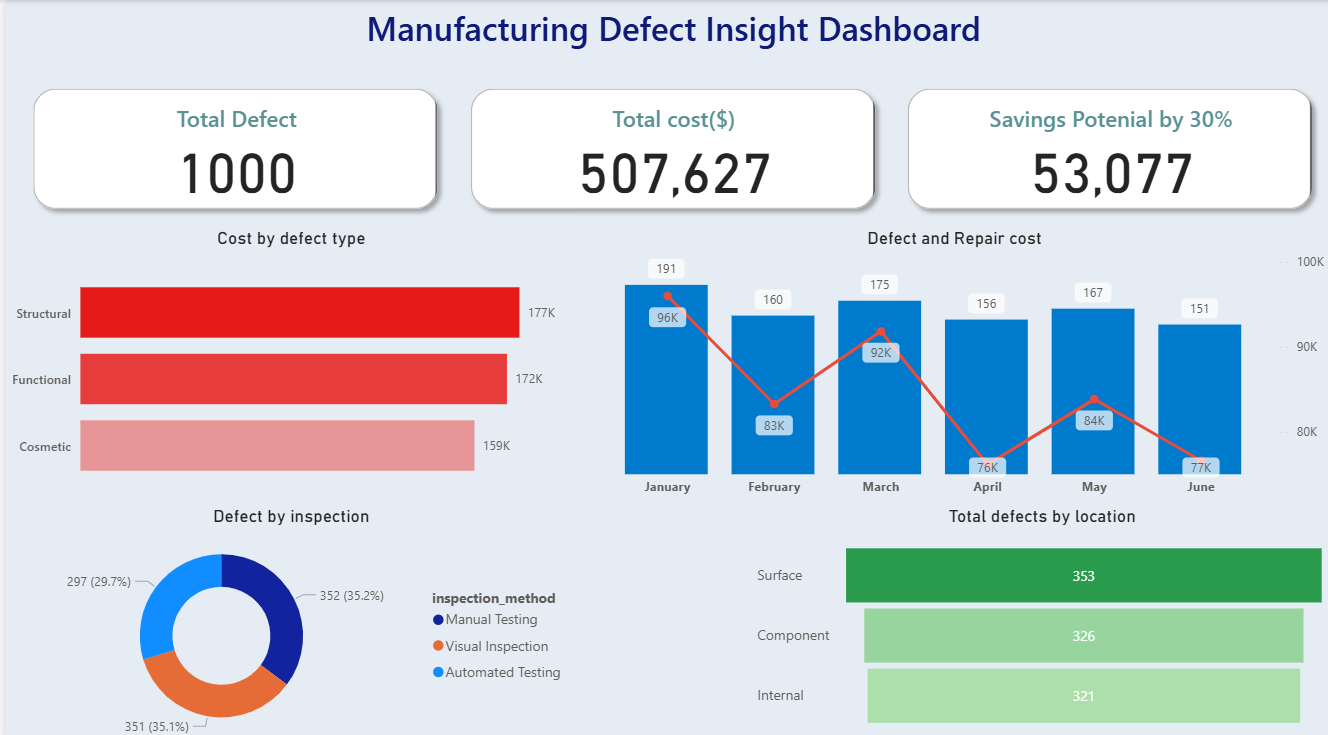

What the dashboard file says about the page in this screenshot:
{"tool":"powerbi","page":{"name":"Page 2","canvas":[1280,720],"ordinal":0},"visuals":[{"type":"textbox","box":[10.1,0,1269.6,69.3],"z":0},{"type":"cardVisual","fields":{"Data":["defects_data.Total Defect","defects_data.Total cost","defects_data.Estimated Savings"]},"box":[10.1,69.3,1269.6,150],"z":1000},{"type":"lineStackedColumnComboChart","title":"Defect and Repair cost","fields":{"Category":["defects_data.Month Name"],"Y":["defects_data.Total Defect"],"Y2":["defects_data.Total cost"]},"box":[551.1,219.3,728.6,268.4],"z":2000},{"type":"barChart","title":"Cost  by defect type","fields":{"Y":["defects_data.Total cost"],"Category":["defects_data.defect_type"]},"box":[0,219.3,551.1,268.4],"z":3000},{"type":"donutChart","title":"Defect by inspection","fields":{"Category":["defects_data.inspection_method"],"Y":["defects_data.Total Defect"]},"box":[0,487.7,551.1,233.7],"z":4000},{"type":"funnel","title":"Total defects by location","fields":{"Y":["defects_data.Total Defect"],"Category":["defects_data.defect_location"]},"box":[719.9,487.7,559.8,232.3],"z":5000}]}

Visuals, with their boxes in screenshot pixels (x1, y1, x2, y2), scaled from the page's 1280x720 canvas onto the 1328x735 screenshot:
textbox: [10, 0, 1327, 71]
cardVisual - defects_data.Total Defect x defects_data.Total cost: [10, 71, 1327, 224]
"Defect and Repair cost" lineStackedColumnComboChart: [572, 224, 1327, 498]
"Cost  by defect type" barChart: [0, 224, 572, 498]
"Defect by inspection" donutChart: [0, 498, 572, 734]
"Total defects by location" funnel: [747, 498, 1327, 734]
